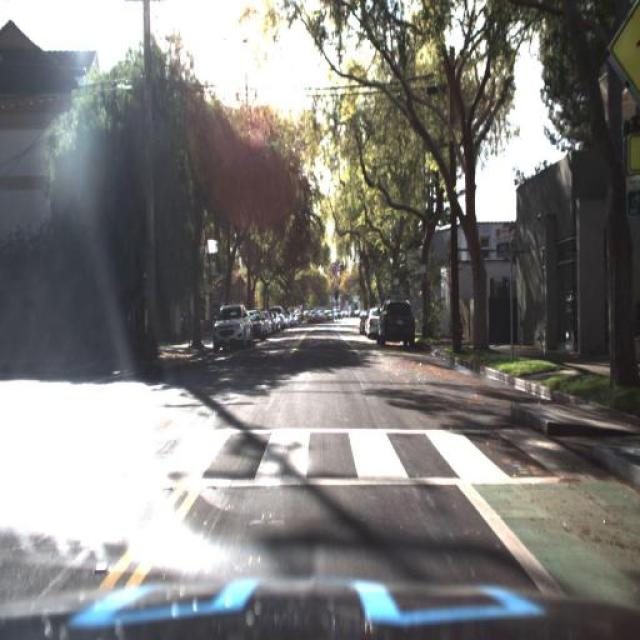car: (204, 298, 252, 354), (378, 292, 417, 348), (376, 297, 418, 347), (364, 302, 384, 338)
